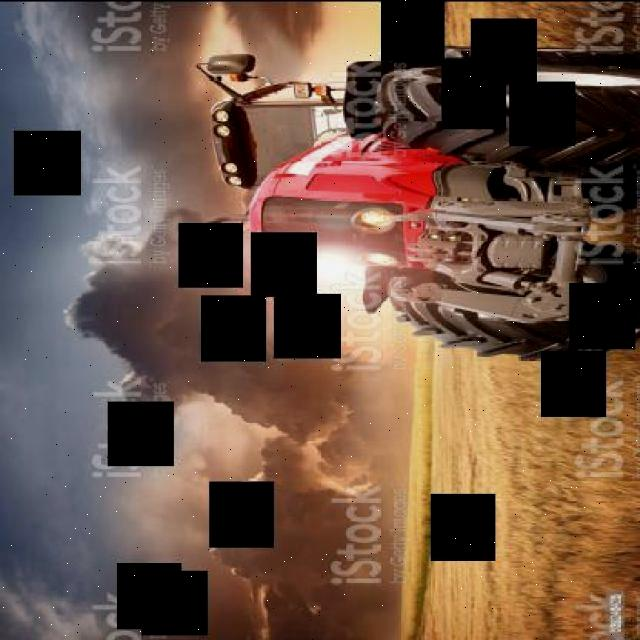Tratores - v5 YOLO V8L 2024-11-13: (163, 26, 640, 391)
